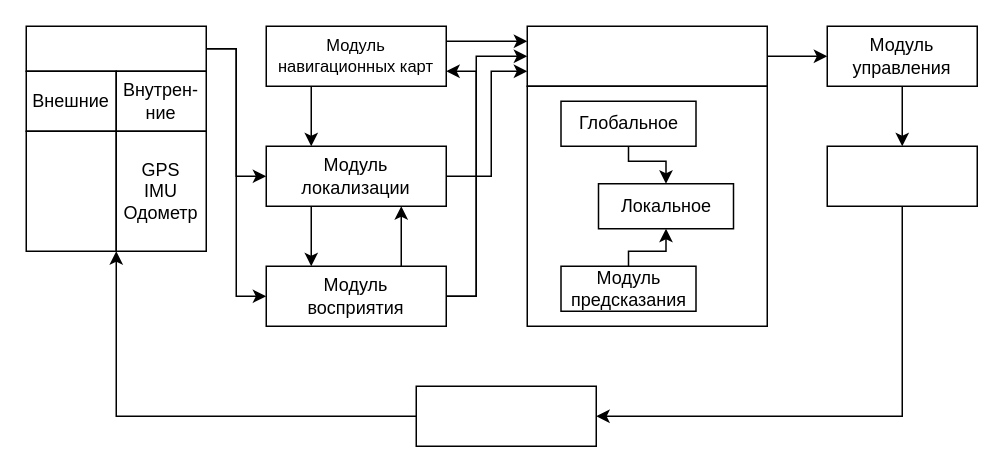
The diagram is 1004 pixels wide and 473 high, and some of its shapes have lost their labels. Each missing label, with the centre of its shape:
Видео-камера Лидар Радар Сонар: pixel 70 190
Исполнительные устройства: pixel 901 175
Модуль планирования траектории: pixel 646 55
Окружающая среда/симуляция: pixel 505 415
Сенсоры: pixel 115 48
